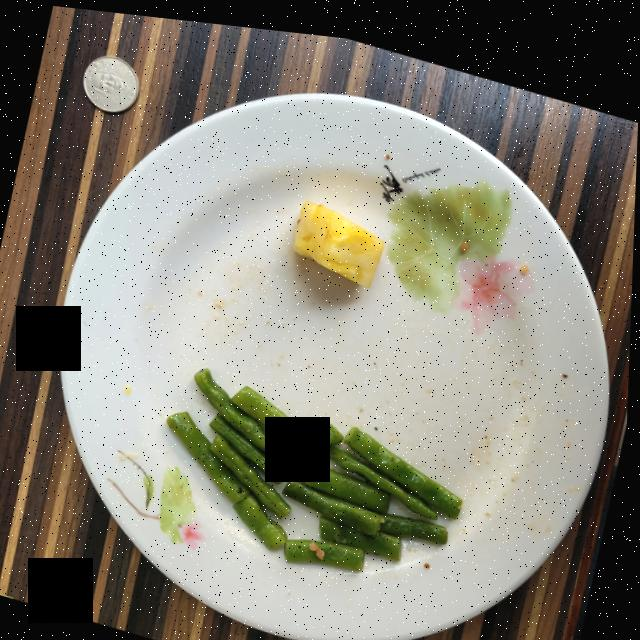coin: (82, 52, 138, 109)
pineapple: (294, 193, 385, 279)
